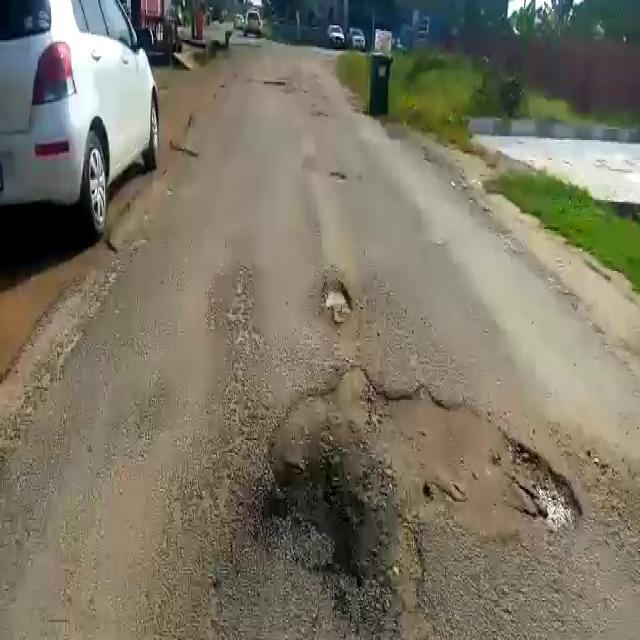Pothole: (265, 364, 585, 548), (319, 281, 356, 323)
